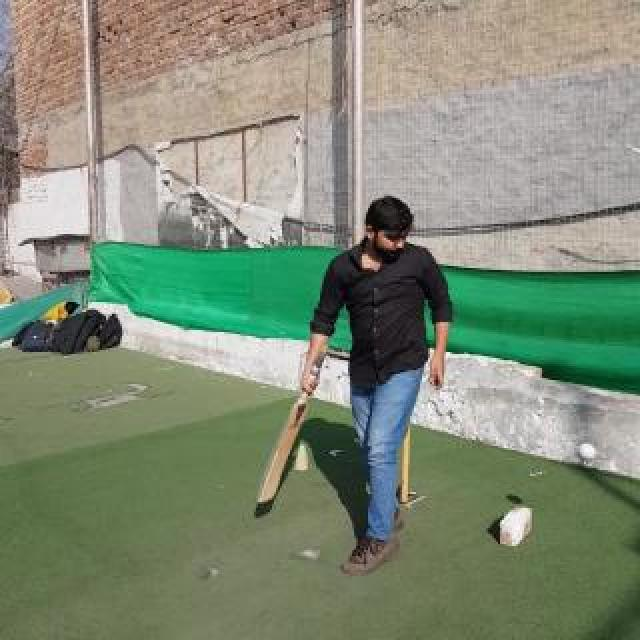ball: (577, 442, 597, 460)
bat: (257, 346, 329, 504)
